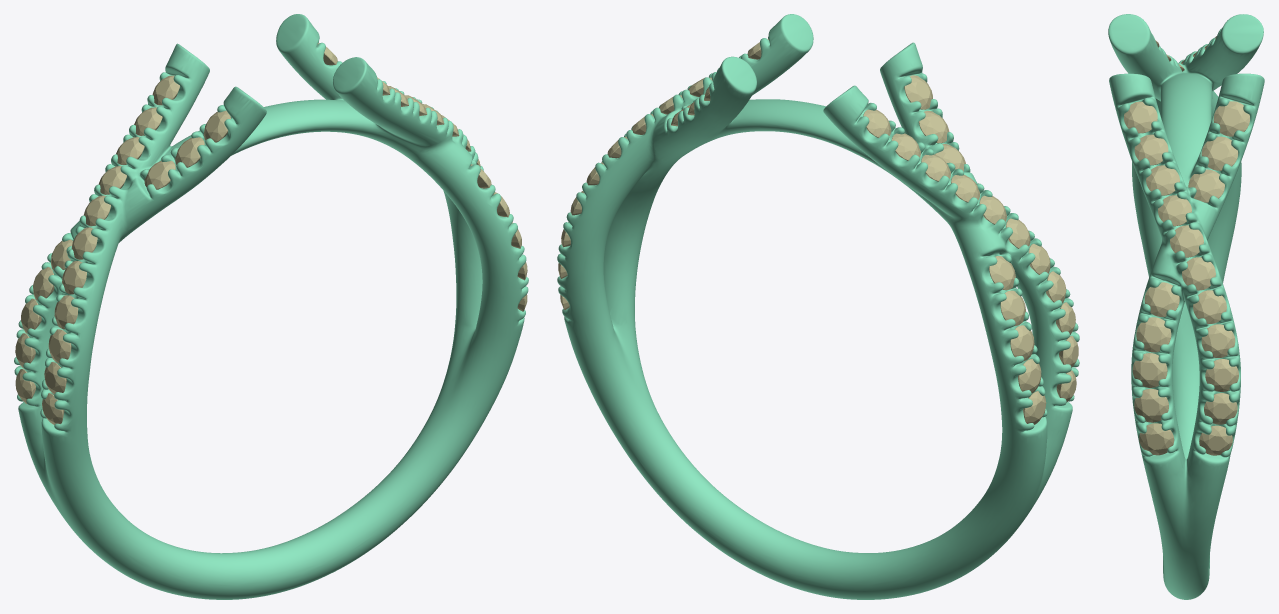
The picture shows the model from 3 angles, left to right: view 1: azimuth 30°, elevation 25°; view 2: azimuth 150°, elevation 25°; view 3: azimuth 270°, elevation 25°; orthographic projection.
Visible parts, largest first — view 1: Metal02; view 2: Metal02; view 3: Metal02, Diamond_Gem.011, Diamond_Gem.015, Diamond_Gem.010, Diamond_Gem.014, Diamond_Gem, Diamond_Gem.013, Diamond_Gem.009, Diamond_Gem.012, Diamond_Gem.034, Diamond_Gem.033, Diamond_Gem.032 (+8 smaller).
Boxes of the visible parts, x1,y1,x2,y2 form: Metal02: [14, 14, 528, 599]; Metal02: [557, 14, 1079, 599]; Metal02: [1108, 14, 1264, 599]; Diamond_Gem.011: [1213, 101, 1249, 136]; Diamond_Gem.015: [1136, 317, 1171, 352]; Diamond_Gem.010: [1201, 136, 1238, 170]; Diamond_Gem.014: [1132, 353, 1167, 387]; Diamond_Gem: [1144, 282, 1179, 316]; Diamond_Gem.013: [1134, 388, 1168, 422]; Diamond_Gem.009: [1188, 169, 1224, 202]; Diamond_Gem.012: [1139, 423, 1174, 455]; Diamond_Gem.034: [1201, 324, 1235, 357]; Diamond_Gem.033: [1193, 290, 1226, 323]; Diamond_Gem.032: [1182, 257, 1215, 290].
Size of the model in its own units: 21.05 by 22.49 by 6.
